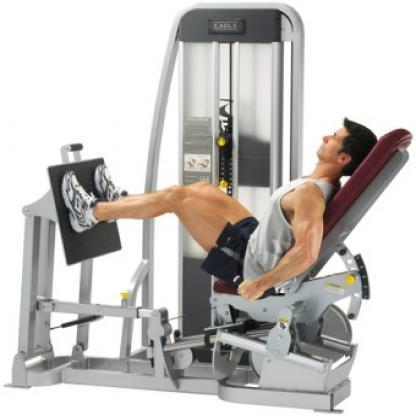leg press: (5, 2, 416, 416)
